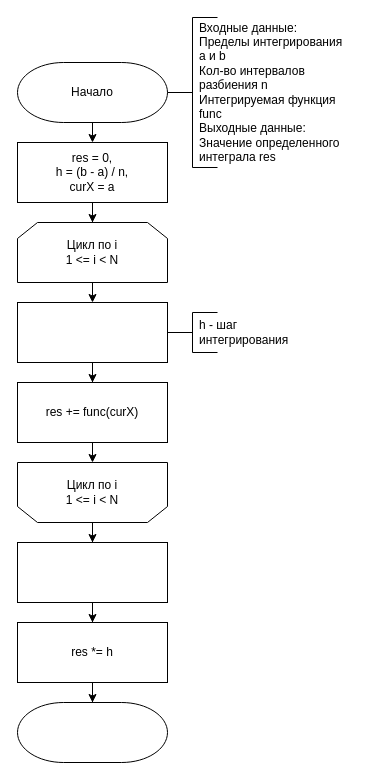
This 375x780 diagram has some shape labels left out. The shapes that lost their labels are listed below. From the top down, each one's box as (x1, y1, x2, y2) in pixels, then its label:
(16, 302, 168, 362): curX += h
(16, 542, 168, 602): res += (func(a) + func(b)) / 2
(16, 702, 168, 762): Конец
